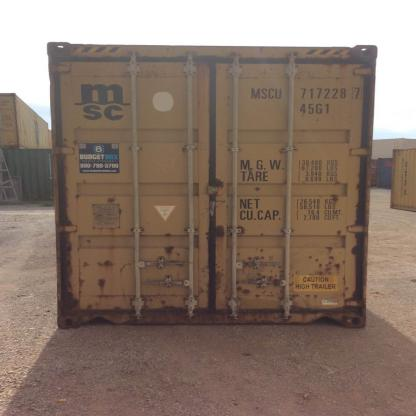Damage: (53, 134, 90, 331), (292, 245, 355, 318), (233, 247, 286, 315), (136, 288, 194, 313), (91, 276, 132, 309), (202, 171, 230, 214), (202, 257, 227, 304), (317, 60, 368, 74), (323, 176, 348, 203), (102, 195, 130, 217), (204, 222, 227, 243), (99, 257, 129, 273), (158, 242, 182, 258), (232, 221, 250, 235), (329, 230, 351, 241), (250, 181, 262, 194), (162, 228, 176, 236)
